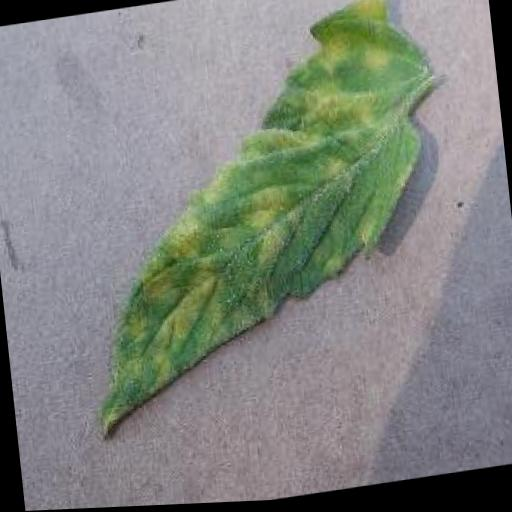Leaf Mold: (54, 0, 466, 443)
